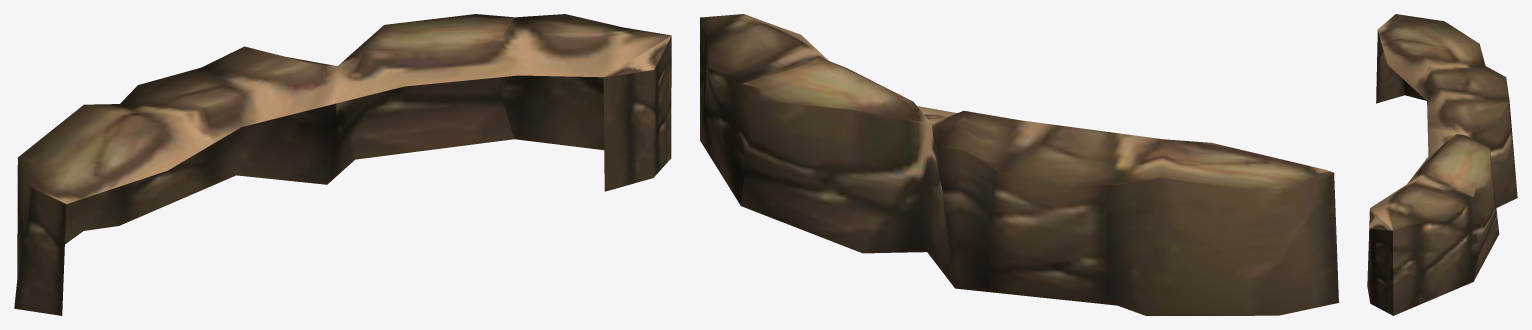
The model's file is h5_bianyuan_a.FBX.
3 renders of one model, left to right at view 1: azimuth 30°, elevation 25°; view 2: azimuth 150°, elevation 25°; view 3: azimuth 270°, elevation 25°, orthographic. The views are drawn at different scales.
Visible parts, largest first — view 1: h5_bianyuan_a; view 2: h5_bianyuan_a; view 3: h5_bianyuan_a.
Boxes of the visible parts, x1,y1,x2,y2 form: h5_bianyuan_a: (14, 14, 671, 315); h5_bianyuan_a: (700, 14, 1338, 315); h5_bianyuan_a: (1367, 14, 1517, 315).
Size of the model in its own units: 17.72 by 3.56 by 5.13.
